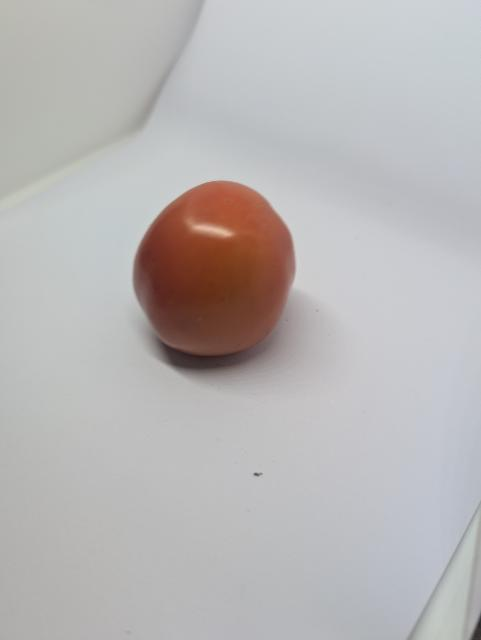red: (127, 176, 301, 371)
